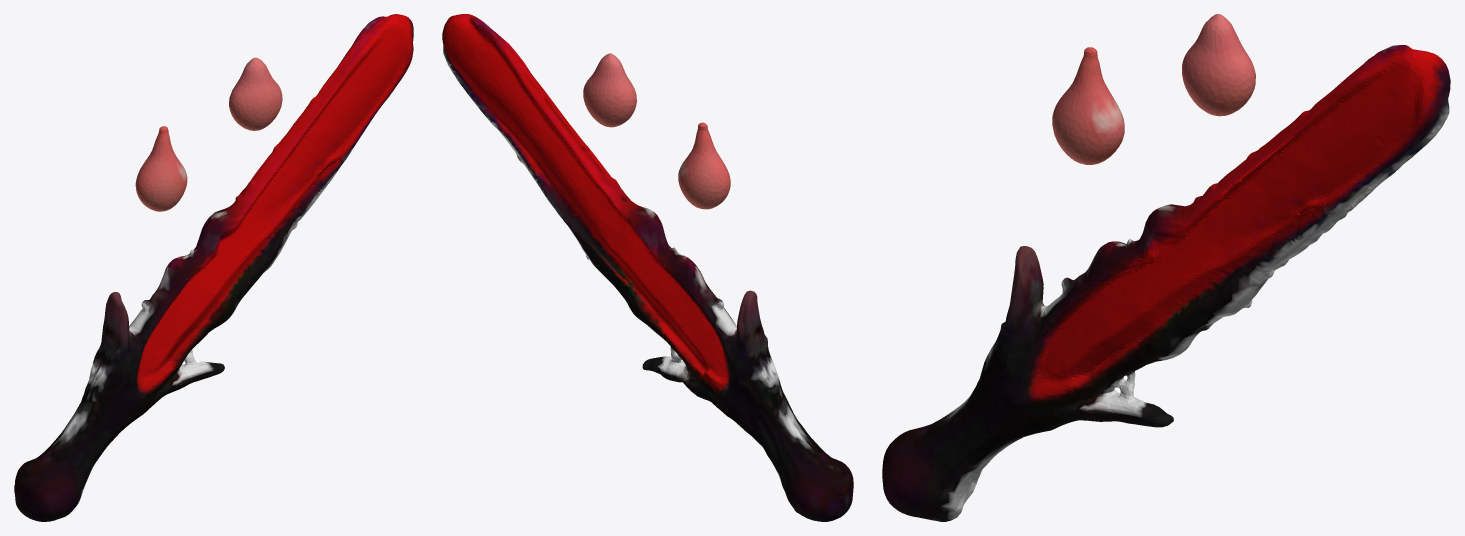
Rendered from firebrand.glb.
3 views of the same model, side by side, from view 1: azimuth 30°, elevation 25°; view 2: azimuth 150°, elevation 25°; view 3: azimuth 330°, elevation 25° (orthographic). The views are drawn at different scales.
Visible parts, largest first — view 1: geometry_0; view 2: geometry_0; view 3: geometry_0.
Boxes of the visible parts, bbox=[...] form: geometry_0: bbox=[14, 14, 413, 521]; geometry_0: bbox=[442, 14, 853, 521]; geometry_0: bbox=[882, 14, 1450, 521].
Bounding box in the file's own units: 0.6875 × 0.6845 × 0.1038.
